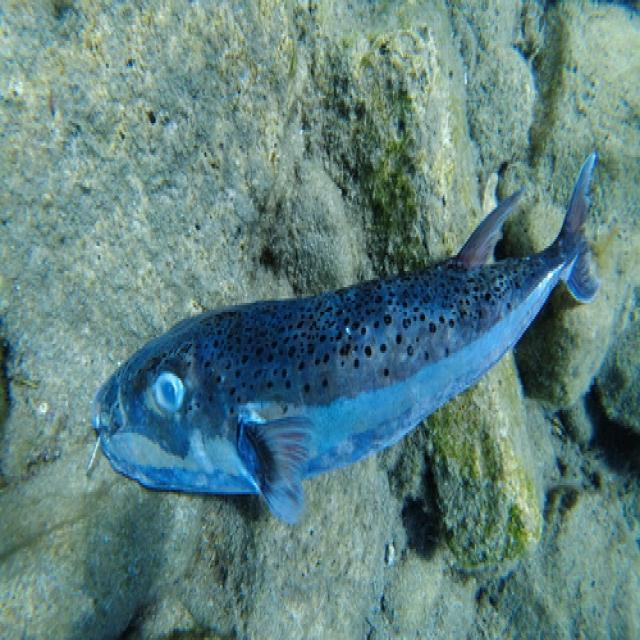Balik: (93, 153, 599, 521)
